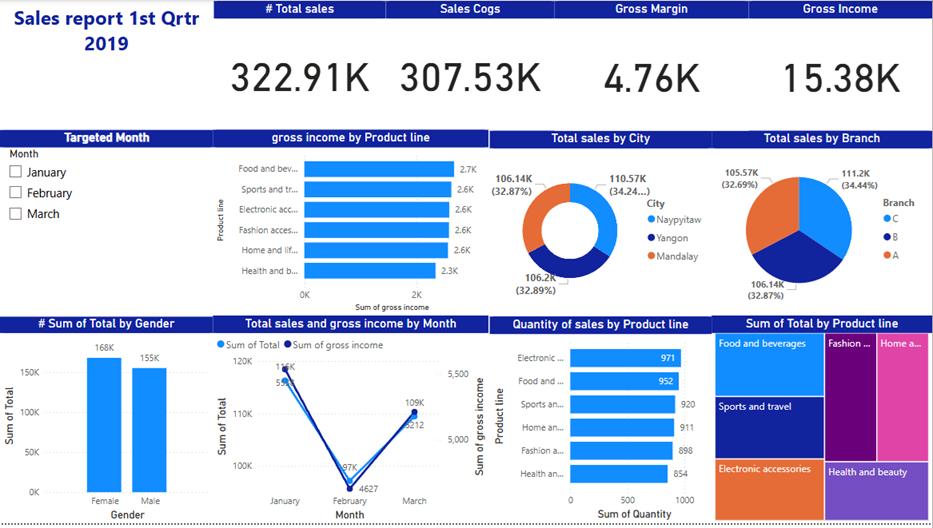

The dashboard page shown, as its layout file describes it:
{"tool":"powerbi","page":{"name":"Page 1","canvas":[1280,720],"ordinal":0},"visuals":[{"type":"card","title":"Gross Income","fields":{"Values":["Sum(supermarket_sales.gross income)"]},"box":[1027.8,1.4,252.5,178.4],"z":0},{"type":"card","title":"# Total sales","fields":{"Values":["Sum(supermarket_sales.Total)"]},"box":[293.7,1.4,236,177],"z":1000},{"type":"card","title":"Sales Cogs","fields":{"Values":["Sum(supermarket_sales.cogs)"]},"box":[529.7,1.4,231.9,177],"z":2000},{"type":"pieChart","title":"Total sales by Branch","fields":{"Y":["Sum(supermarket_sales.Total)"],"Category":["supermarket_sales.Branch"]},"box":[977,179.8,303.3,253.9],"z":3000},{"type":"donutChart","title":"Total sales by City","fields":{"Y":["Sum(supermarket_sales.Total)"],"Category":["supermarket_sales.City"]},"box":[672.4,179.8,304.6,255.2],"z":4000},{"type":"treemap","fields":{"Group":["supermarket_sales.Product line"],"Values":["Sum(supermarket_sales.Total)"]},"box":[977,433.6,303.3,286.8],"z":5000},{"type":"clusteredColumnChart","title":"# Sum of Total by Gender","fields":{"Category":["supermarket_sales.Gender"],"Y":["Sum(supermarket_sales.Total)"]},"box":[0,433.6,292.3,286.8],"z":6000},{"type":"slicer","title":"Targeted Month","fields":{"Values":["supermarket_sales.Date.Variation.Date Hierarchy.Month"]},"box":[0,178.4,293.7,256.6],"z":7000},{"type":"lineChart","title":" Total sales and  gross income by Month","fields":{"Category":["supermarket_sales.Date.Variation.Date Hierarchy.Month"],"Y":["Sum(supermarket_sales.Total)"],"Y2":["Sum(supermarket_sales.gross income)"]},"box":[292.3,433.6,378.7,286.8],"z":8000},{"type":"clusteredBarChart","title":"gross income by Product line","fields":{"Category":["supermarket_sales.Product line"],"Y":["Sum(supermarket_sales.gross income)"]},"box":[292.3,178.4,378.7,255.2],"z":9000},{"type":"card","title":"Gross Margin","fields":{"Values":["Sum(supermarket_sales.gross margin percentage)"]},"box":[761.6,1.4,266.2,178.4],"z":10000},{"type":"clusteredBarChart","title":"Quantity of sales by Product line","fields":{"Category":["supermarket_sales.Product line"],"Y":["Sum(supermarket_sales.Quantity)"]},"box":[672,435,305,285],"z":11000},{"type":"textbox","box":[0,0,292.3,178.4],"z":12000}]}

Visuals, with their boxes in screenshot pixels (x1, y1, x2, y2), scaled from the page's 1280x720 canvas onto the 933x528 screenshot:
"Gross Income" card: x1=749, y1=1, x2=932, y2=132
"# Total sales" card: x1=214, y1=1, x2=386, y2=131
"Sales Cogs" card: x1=386, y1=1, x2=555, y2=131
"Total sales by Branch" pieChart: x1=712, y1=132, x2=932, y2=318
"Total sales by City" donutChart: x1=490, y1=132, x2=712, y2=319
treemap - supermarket_sales.Product line x Sum(supermarket_sales.Total): x1=712, y1=318, x2=932, y2=527
"# Sum of Total by Gender" clusteredColumnChart: x1=0, y1=318, x2=213, y2=527
"Targeted Month" slicer: x1=0, y1=131, x2=214, y2=319
" Total sales and  gross income by Month" lineChart: x1=213, y1=318, x2=489, y2=527
"gross income by Product line" clusteredBarChart: x1=213, y1=131, x2=489, y2=318
"Gross Margin" card: x1=555, y1=1, x2=749, y2=132
"Quantity of sales by Product line" clusteredBarChart: x1=490, y1=319, x2=712, y2=527
textbox: x1=0, y1=0, x2=213, y2=131
